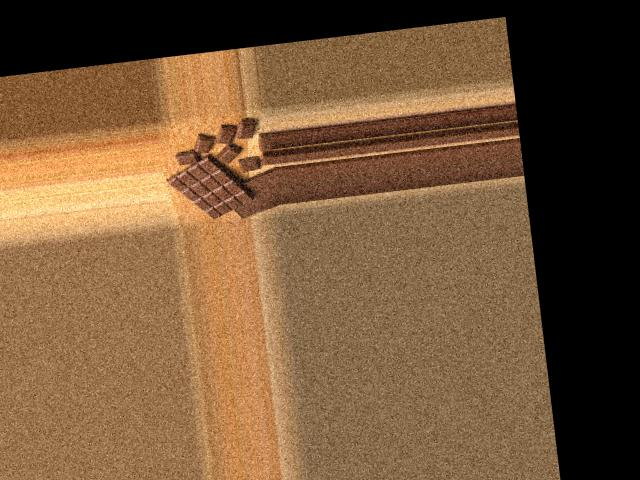chocolate: (166, 147, 255, 224)
